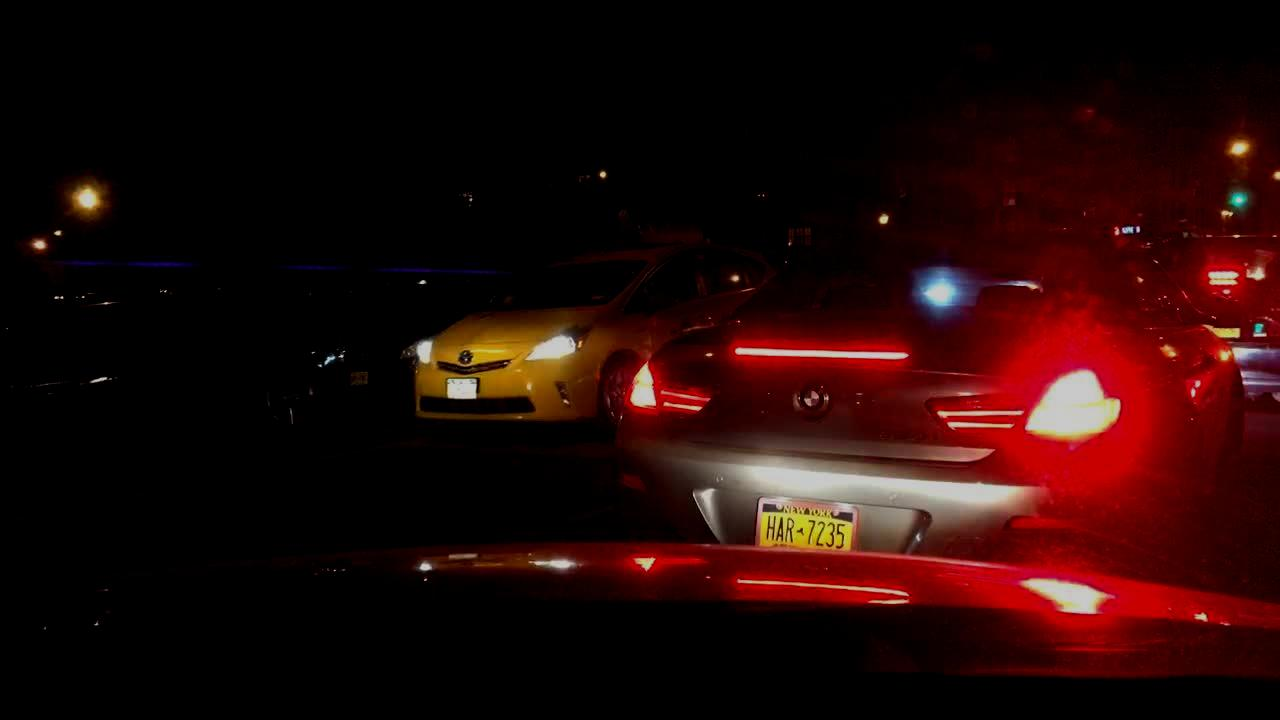Toyota: (450, 345, 481, 366)
bmw: (780, 378, 835, 422)
